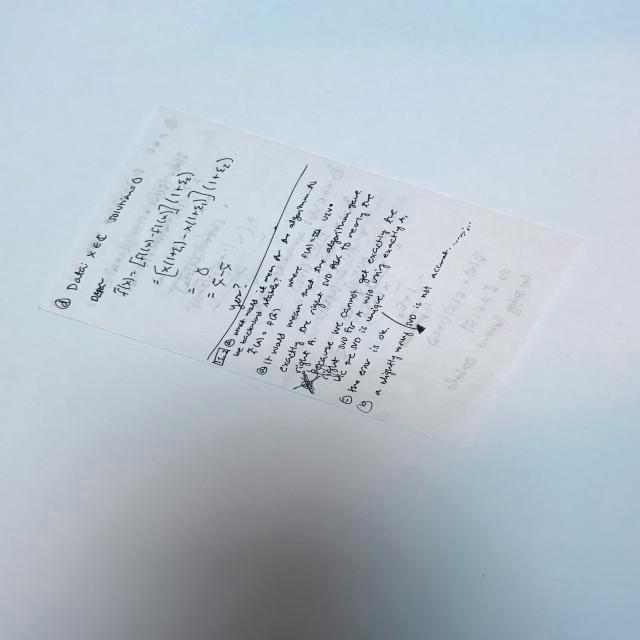paper: (30, 87, 605, 484)
